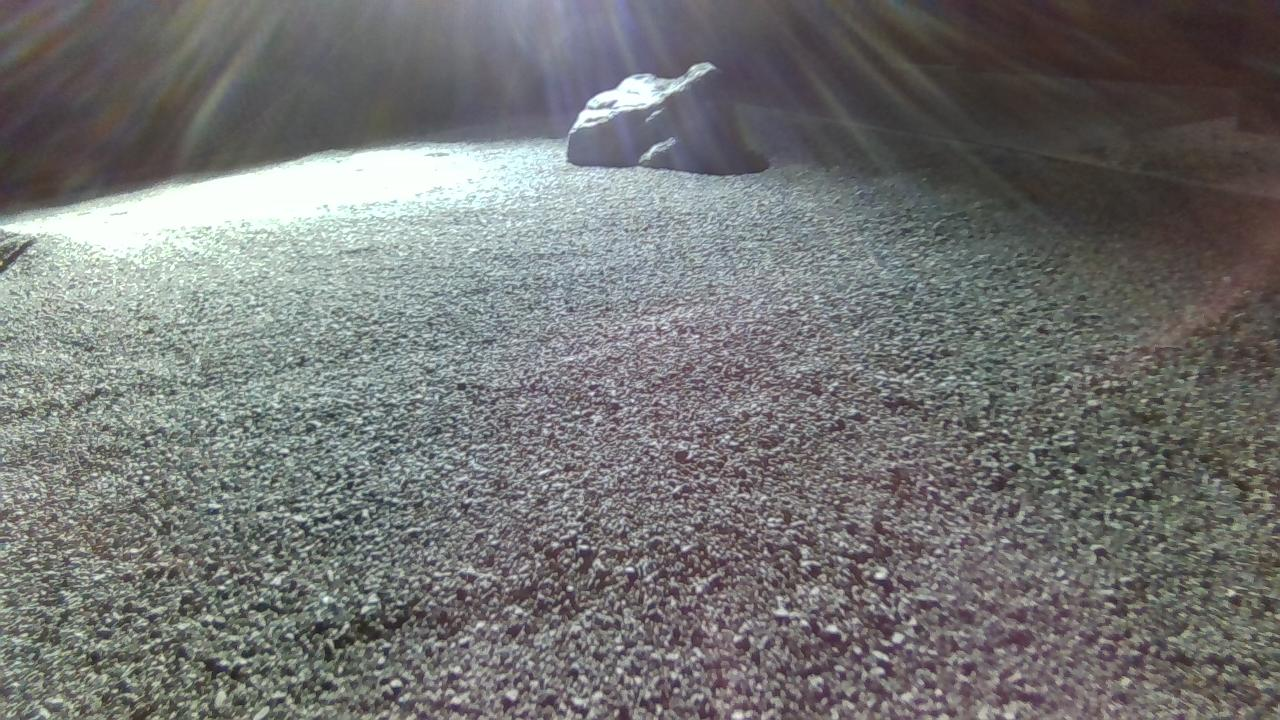rock: (568, 61, 752, 175)
